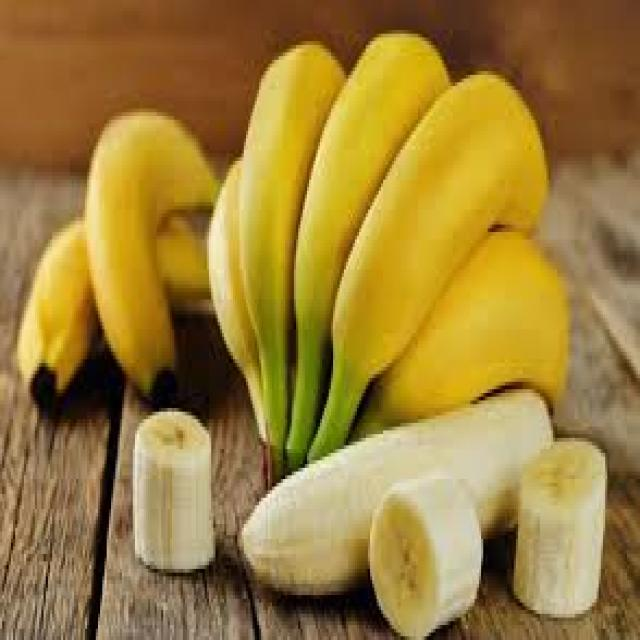banana: (218, 40, 590, 433), (19, 205, 218, 389), (90, 107, 218, 385)
